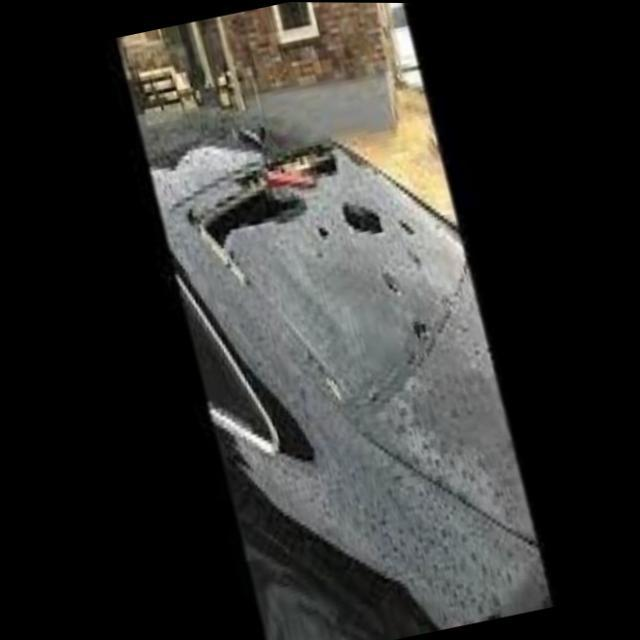glass shatter: (184, 138, 463, 425)
